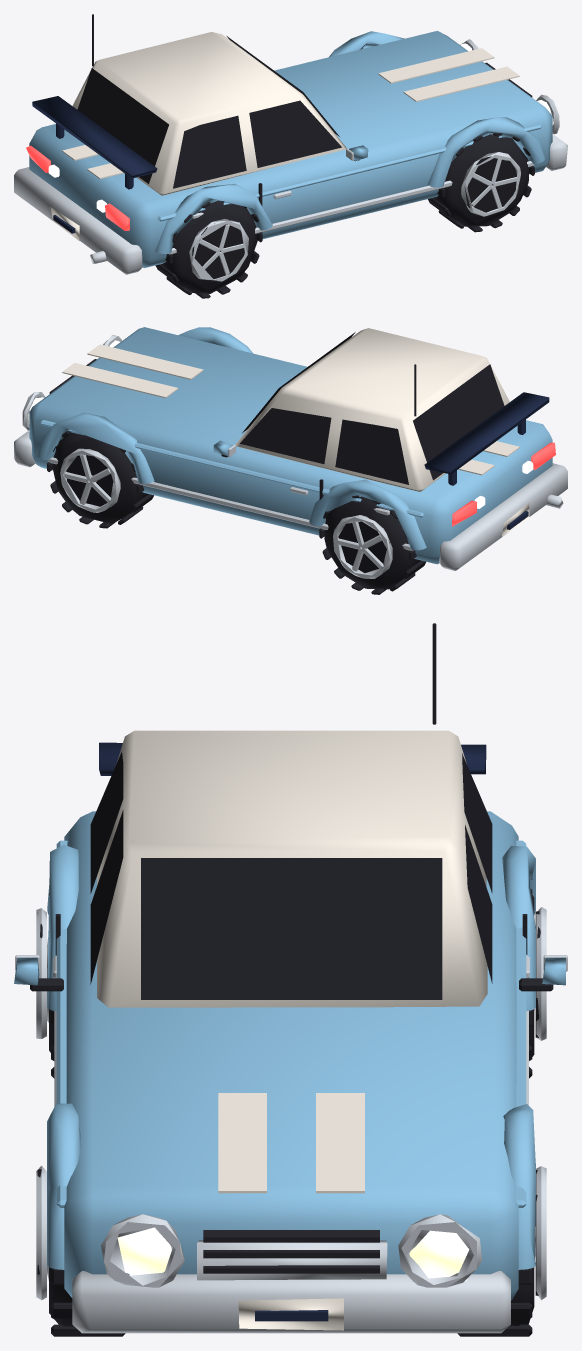
The model's file is car_c.glb.
The picture shows the model from 3 angles, top to bottom: view 1: azimuth 30°, elevation 25°; view 2: azimuth 150°, elevation 25°; view 3: azimuth 270°, elevation 25°; orthographic projection. The views are drawn at different scales.
Parts seen in each view (by area): view 1: car_c; view 2: car_c; view 3: car_c.
Boxes of the visible parts, <box> form: car_c: <box>14,14,567,298</box>; car_c: <box>14,327,567,594</box>; car_c: <box>14,623,567,1336</box>.
Bounding box in the file's own units: 4.24 × 1.89 × 2.26.
Materials: 1 (1 with a texture image).
